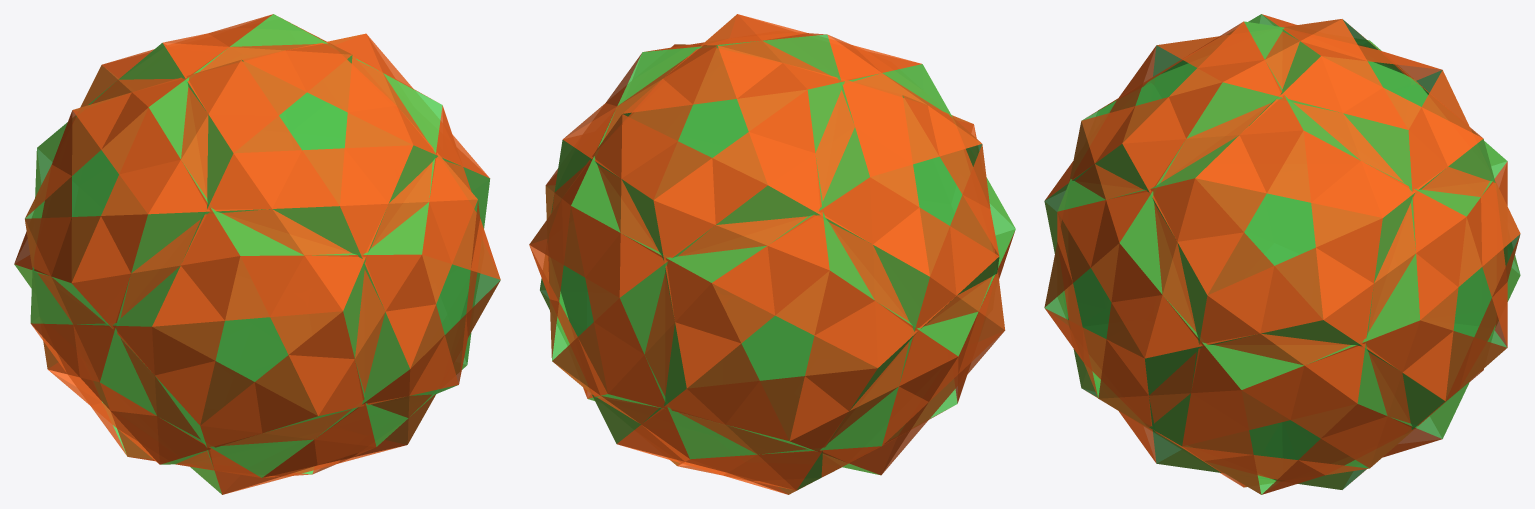
The model's file is SnubDodecadodecahedronA.obj.
3 views of the same model, side by side, from view 1: azimuth 30°, elevation 25°; view 2: azimuth 150°, elevation 25°; view 3: azimuth 270°, elevation 25° (orthographic).
Bounding box in the file's own units: 2.48 × 2.48 × 2.48.
